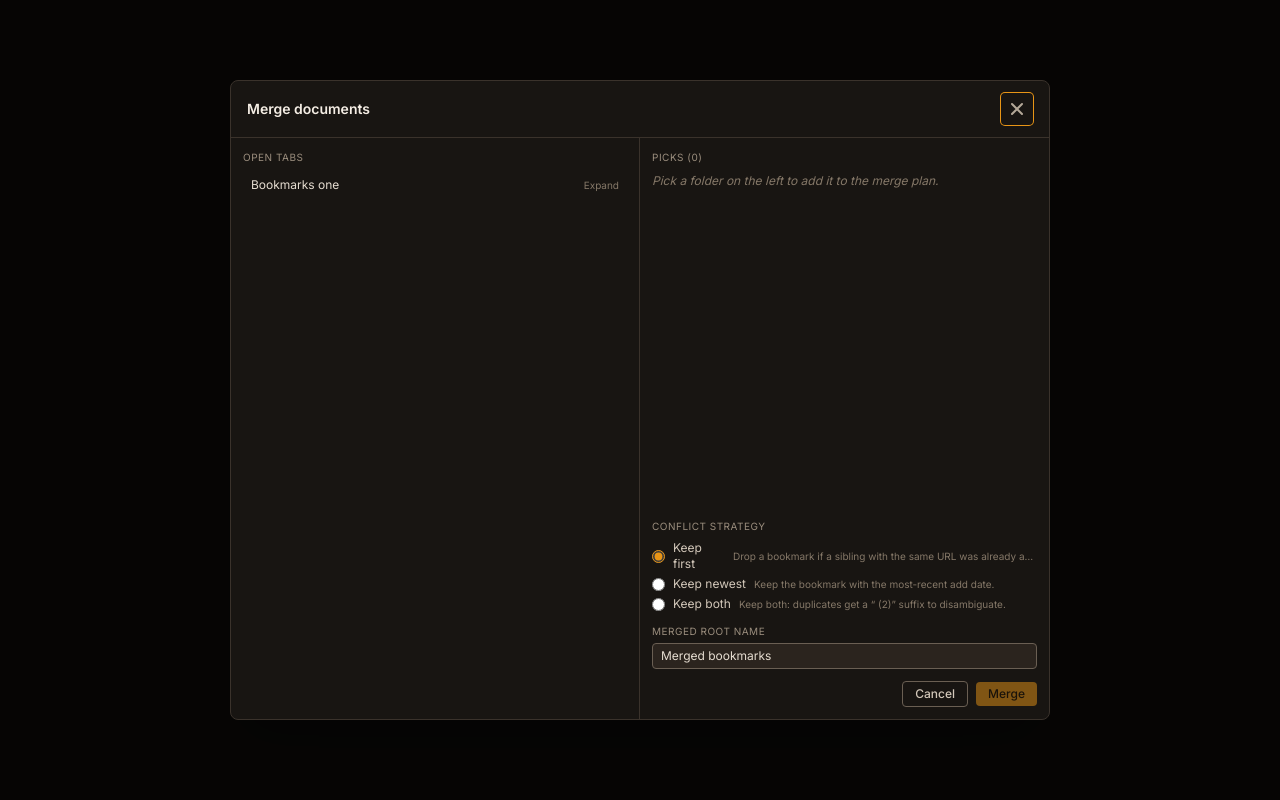
Test: MergePickerModal › enables Merge once a folder is picked
The width and height of the screenshot is (1280, 800).
Check: the button "Merge" is disabled, box left=976, top=682, right=1037, bottom=706
Note: Expand the tab section to load its tree.
Click the button "Bookmarks one Expand": (295, 184) left=243, top=173, right=627, bottom=197
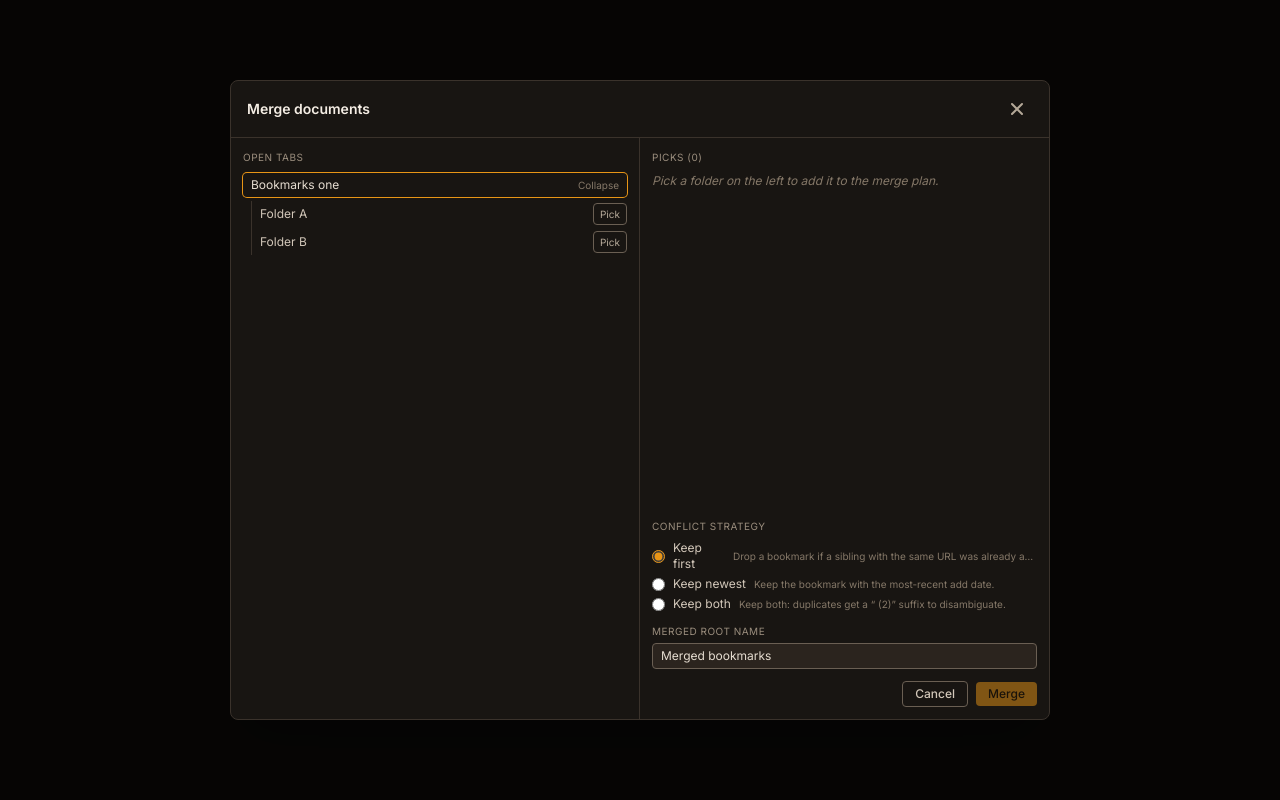
Check: the text "Folder A" is shown, box left=260, top=206, right=307, bottom=222
Note: Pick one folder: the plan lists it by its path under the tab title.
Click the button "Pick" in the row of "Folder A": (610, 214) left=593, top=203, right=627, bottom=225
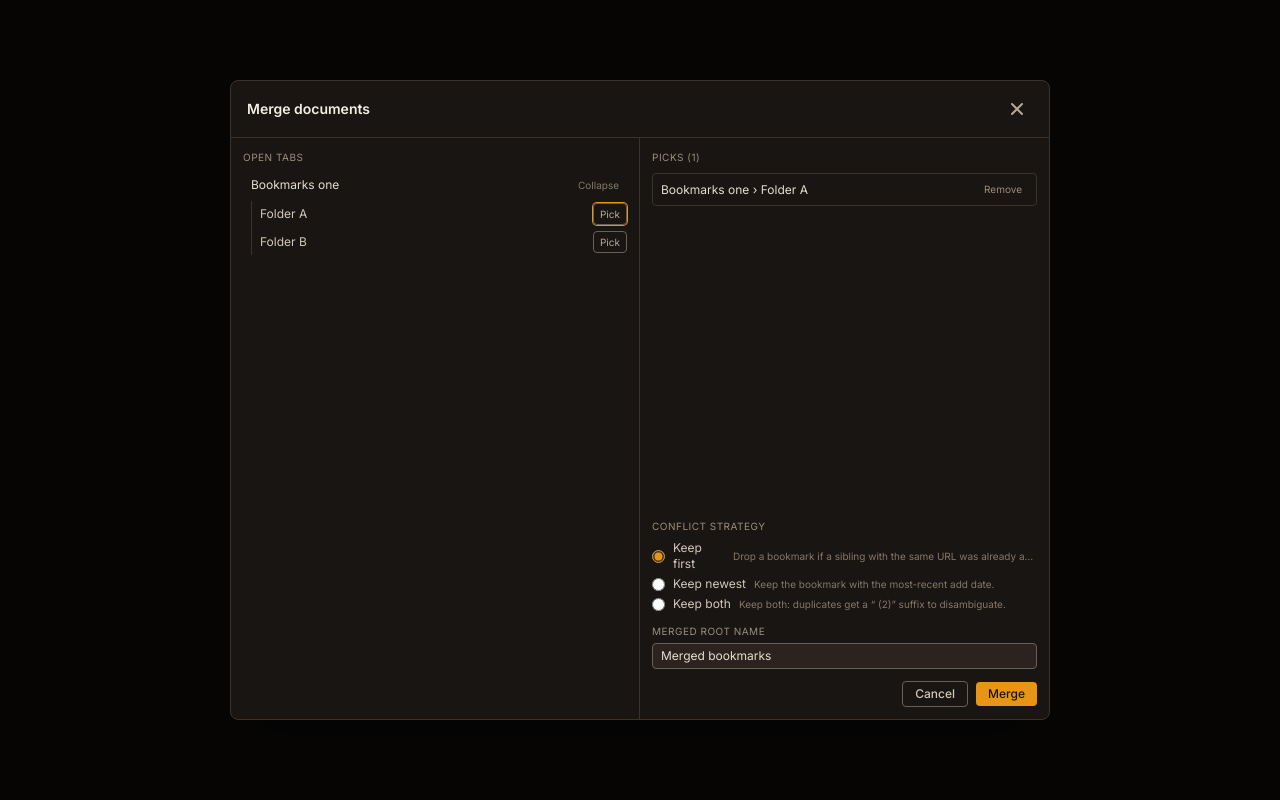
Check: the text "Bookmarks one › Folder A" is shown, box left=661, top=182, right=808, bottom=198
Check: the button "Merge" is enabled, box left=976, top=682, right=1037, bottom=706
